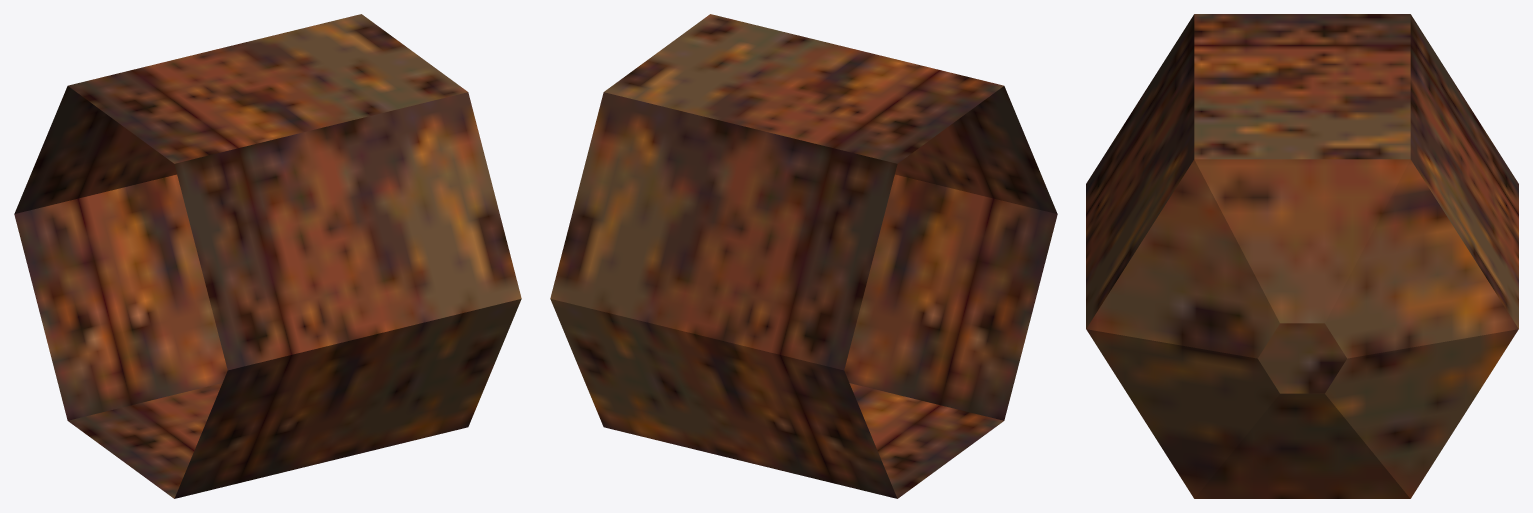
The model's file is pipe_endpiece_rusted.fbx.
The picture shows the model from 3 angles, left to right: view 1: azimuth 30°, elevation 25°; view 2: azimuth 150°, elevation 25°; view 3: azimuth 270°, elevation 25°; orthographic projection.
Parts seen in each view (by area): view 1: pipe_endpiece_rusted; view 2: pipe_endpiece_rusted; view 3: pipe_endpiece_rusted.
Part boxes in pixels (box(x1,y1,x2,y2)): pipe_endpiece_rusted: box(14, 14, 521, 498); pipe_endpiece_rusted: box(550, 14, 1057, 498); pipe_endpiece_rusted: box(1086, 14, 1518, 498).
Size of the model in its own units: 23.84 by 21.6 by 24.94.
1 material, 1 textured.
